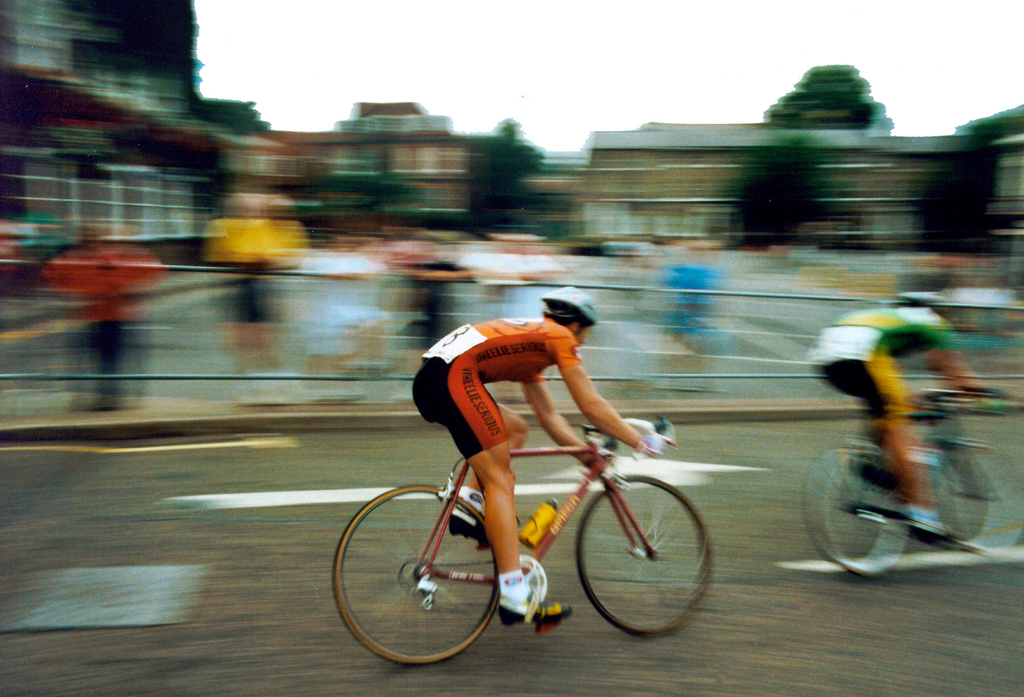Bike: (330, 420, 724, 663)
